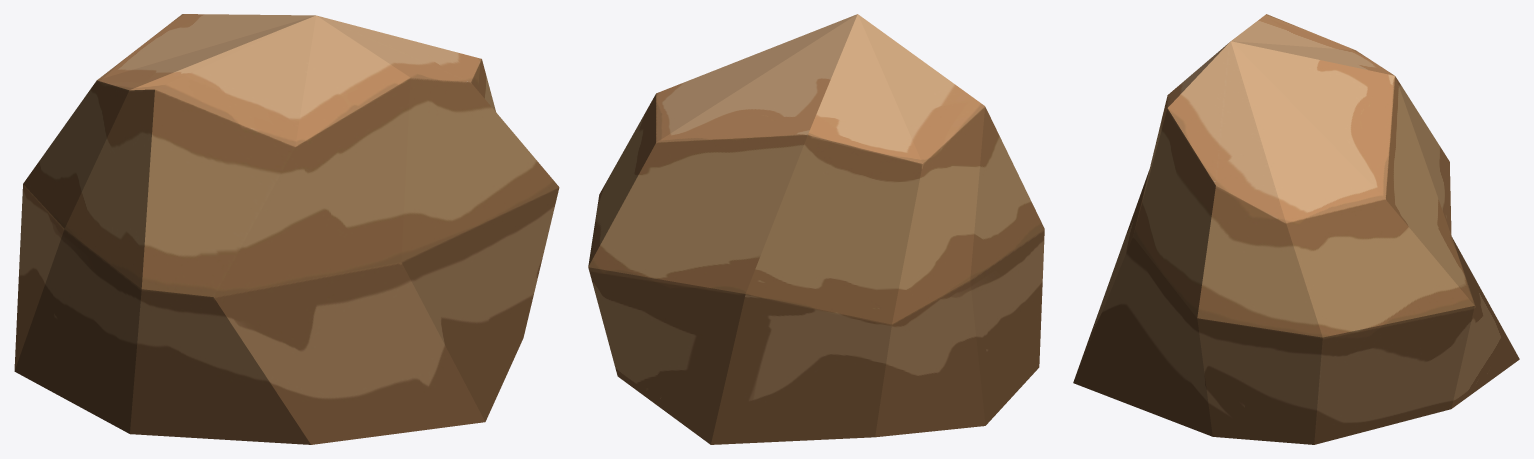
File: rock 1 FBX.FBX
3 views of the same model, side by side, from view 1: azimuth 30°, elevation 25°; view 2: azimuth 150°, elevation 25°; view 3: azimuth 270°, elevation 25° (orthographic). The views are drawn at different scales.
Parts seen in each view (by area): view 1: Sphere001; view 2: Sphere001; view 3: Sphere001.
Boxes of the visible parts, bbox=[...] form: Sphere001: bbox=[14, 14, 559, 444]; Sphere001: bbox=[588, 14, 1044, 444]; Sphere001: bbox=[1073, 14, 1519, 444].
Size of the model in its own units: 27.87 by 21.12 by 26.88.
Materials: 1 (1 with a texture image).
